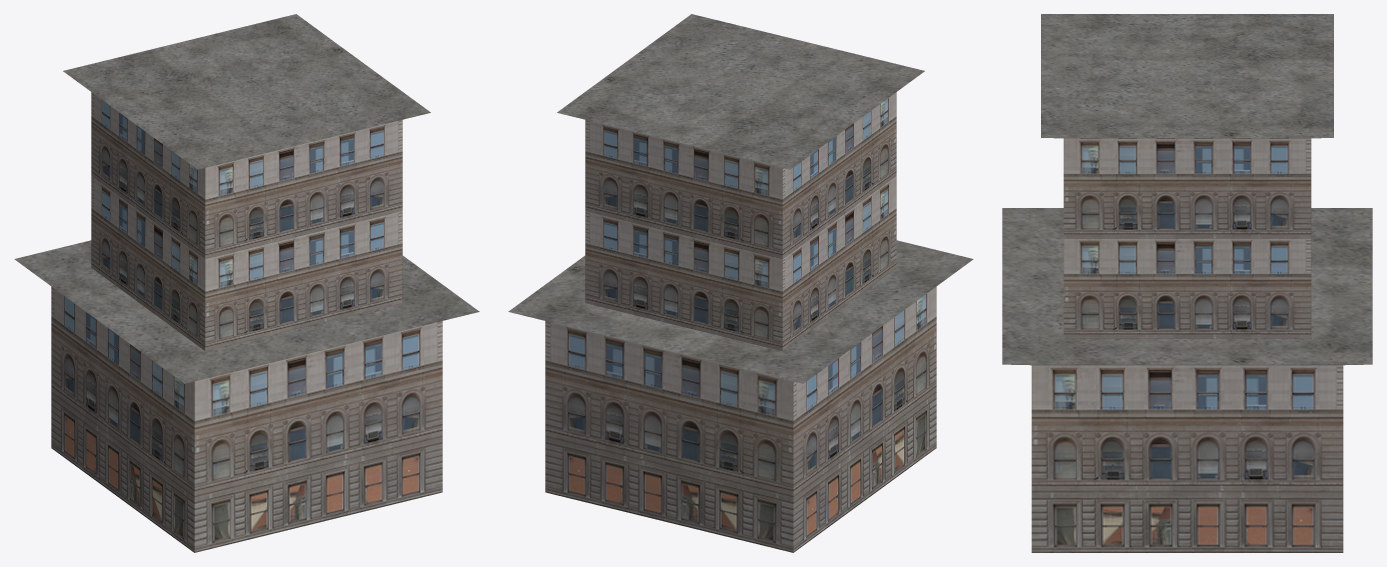
Rendered from Building018.fbx.
3 views of the same model, side by side, from view 1: azimuth 30°, elevation 25°; view 2: azimuth 150°, elevation 25°; view 3: azimuth 270°, elevation 25° (orthographic). The views are drawn at different scales.
Parts seen in each view (by area): view 1: Building018; view 2: Building018; view 3: Building018.
Part boxes in pixels (bbox=[...]): Building018: bbox=[14, 14, 479, 552]; Building018: bbox=[508, 14, 973, 552]; Building018: bbox=[1002, 14, 1372, 552].
Size of the model in its own units: 25.3 by 30.97 by 25.3.
